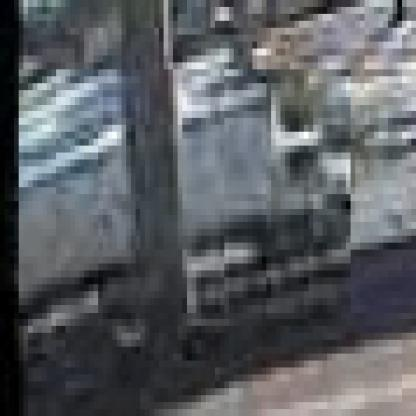container: (15, 70, 352, 334)
